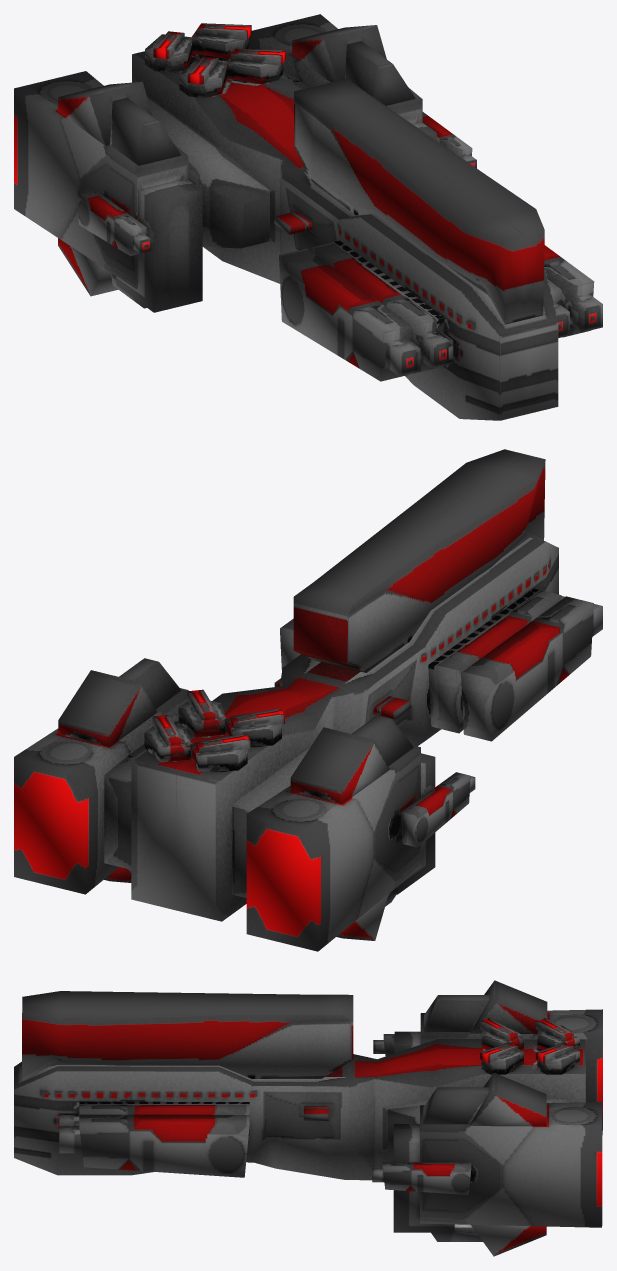
File: red_spaceship_03.fbx
3 renders of one model, top to bottom at view 1: azimuth 30°, elevation 25°; view 2: azimuth 150°, elevation 25°; view 3: azimuth 270°, elevation 25°, orthographic. The views are drawn at different scales.
Visible parts, largest first — view 1: RSCruiserMod; view 2: RSCruiserMod; view 3: RSCruiserMod.
Part boxes in pixels (left/top/right/bottom): RSCruiserMod: left=14, top=14, right=602, bottom=420; RSCruiserMod: left=14, top=449, right=602, bottom=951; RSCruiserMod: left=14, top=980, right=602, bottom=1256.
Size of the model in its own units: 1247 by 2313 by 844.
